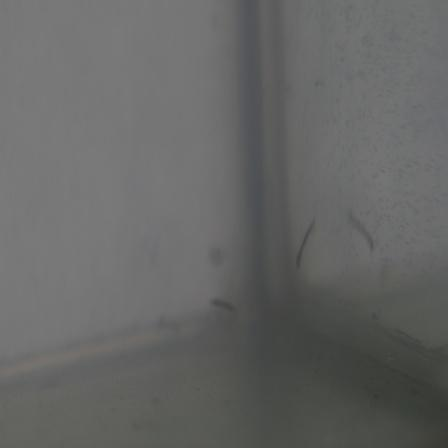Jentik-Nyamuk: (294, 214, 318, 272)
